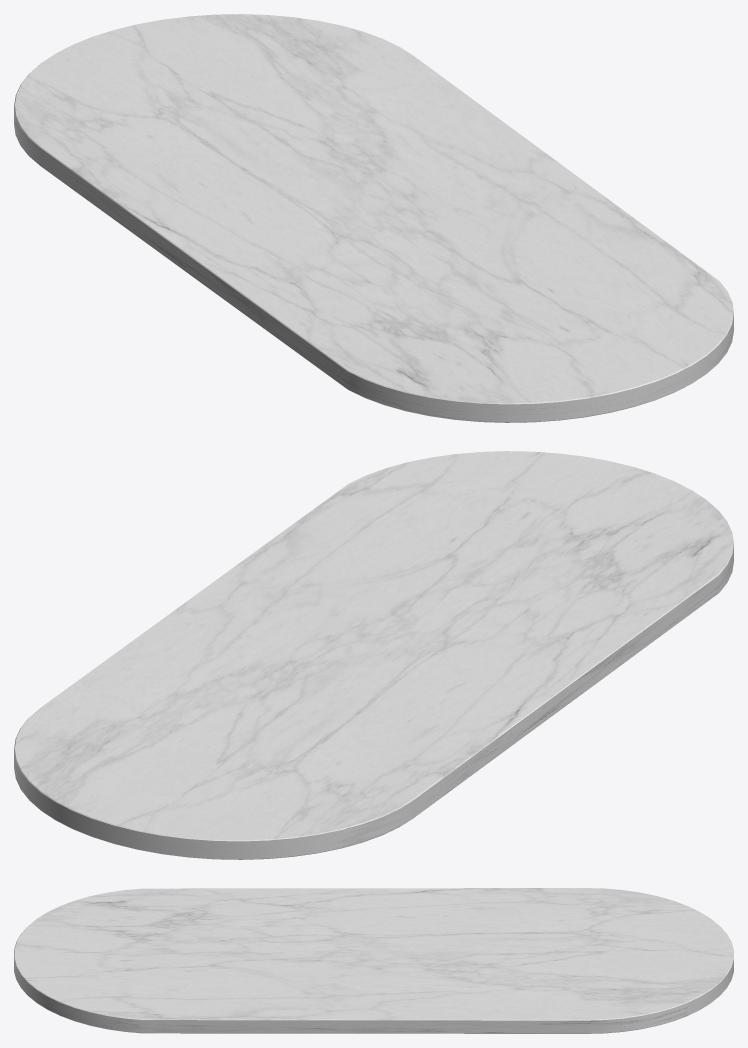
File: table4.obj
The picture shows the model from 3 angles, top to bottom: view 1: azimuth 30°, elevation 25°; view 2: azimuth 150°, elevation 25°; view 3: azimuth 270°, elevation 25°; orthographic projection. The views are drawn at different scales.
Parts seen in each view (by area): view 1: Cylinder.020; view 2: Cylinder.020; view 3: Cylinder.020.
Part boxes in pixels (x1,y1,x2,y2): Cylinder.020: (14,14,733,422); Cylinder.020: (14,451,733,859); Cylinder.020: (14,888,733,1033).
Bounding box in the file's own units: 1 × 0.05 × 2.3.
Materials: 1 (1 with a texture image).
